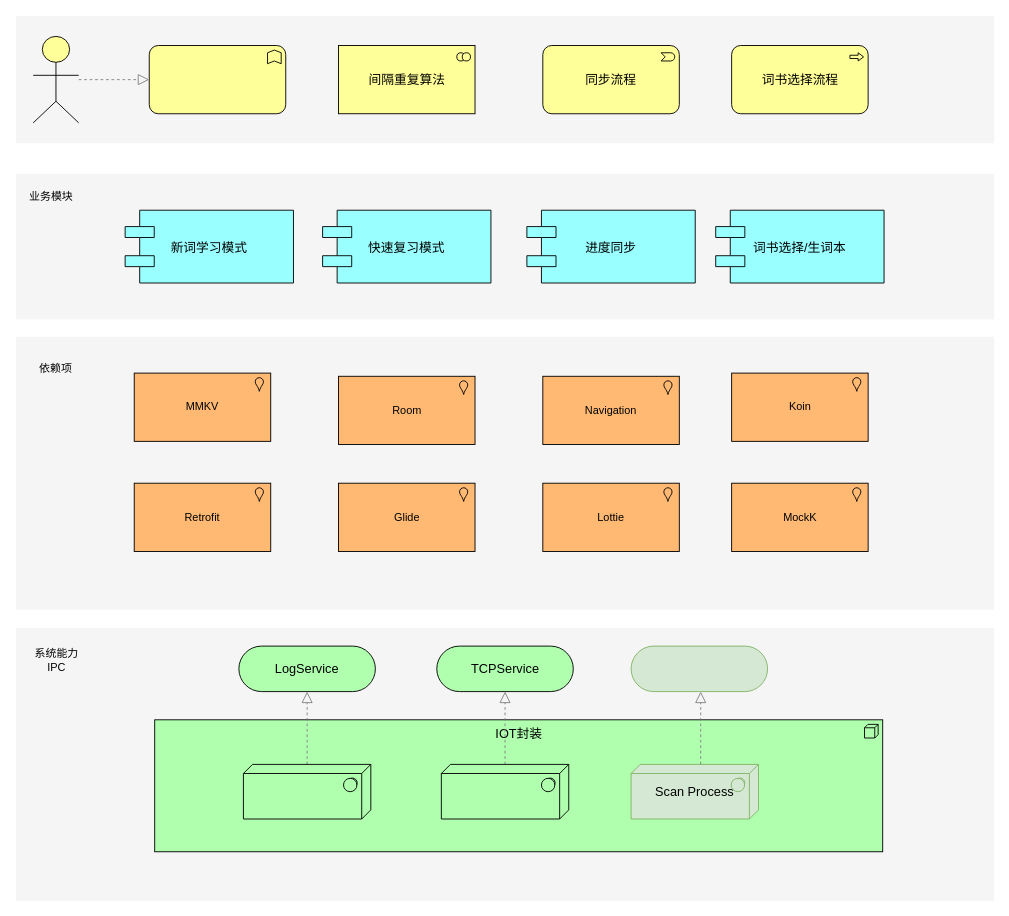
Some shapes in this 1009 by 916 pixel diagram are drawn without their labels. The centre of each missing label's shape, as x and y in pixels:
"AudioService" belongs at point 699,668.
"Log Process" belongs at point 307,791.
"TCP Process" belongs at point 504,791.
"学习/复习流程" belongs at point 217,79.
